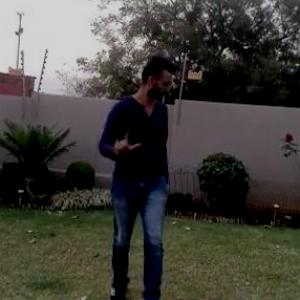land_hand: (111, 125, 146, 158)
